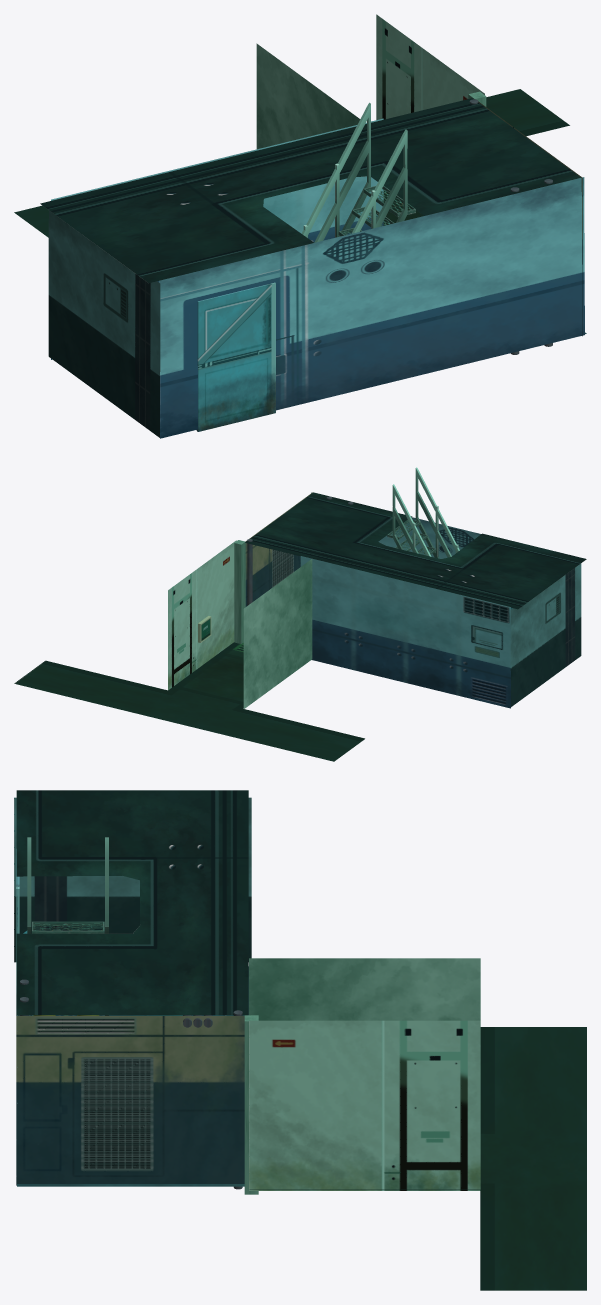
File: environment verbeterd.fbx
3 views of the same model, one above another, from view 1: azimuth 30°, elevation 25°; view 2: azimuth 150°, elevation 25°; view 3: azimuth 270°, elevation 25° (orthographic). The views are drawn at different scales.
Visible parts, largest first — view 1: pPlane24; view 2: pPlane24; view 3: pPlane24.
Part boxes in pixels (left/top/right/bottom): pPlane24: left=14, top=14, right=586, bottom=438; pPlane24: left=14, top=467, right=586, bottom=761; pPlane24: left=14, top=790, right=586, bottom=1290.
Size of the model in its own units: 91.34 by 33.82 by 66.5.
22 materials, 22 textured.
